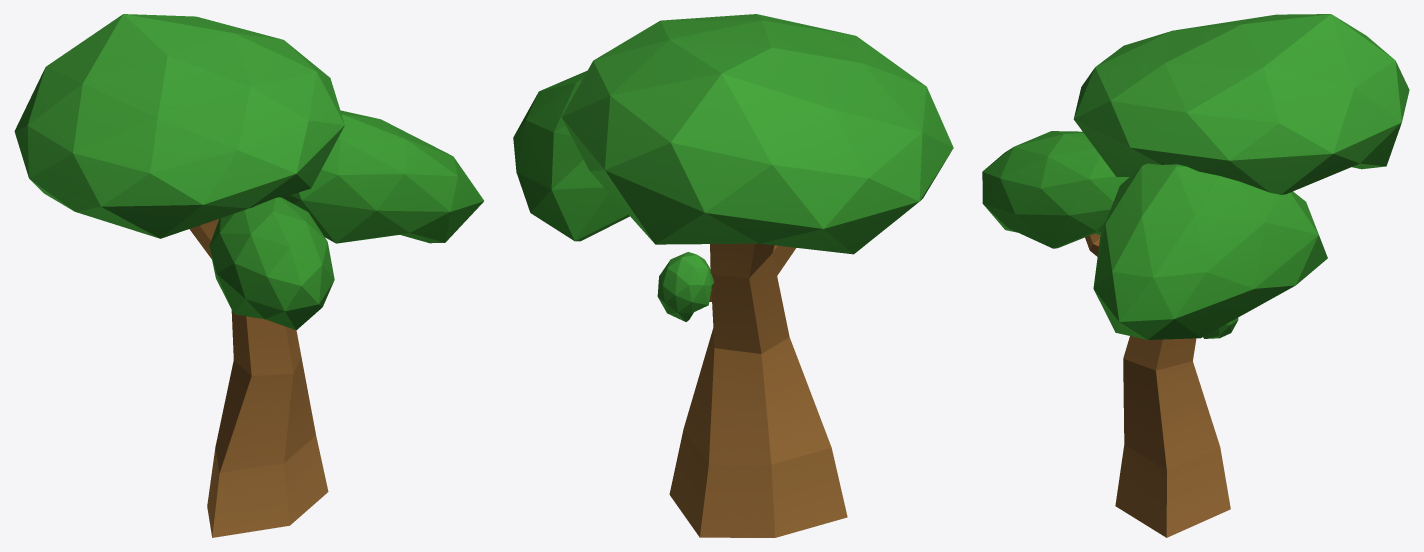
The model's file is TreeBig.fbx.
3 renders of one model, left to right at view 1: azimuth 30°, elevation 25°; view 2: azimuth 150°, elevation 25°; view 3: azimuth 270°, elevation 25°, orthographic. The views are drawn at different scales.
Parts seen in each view (by area): view 1: Big Tree; view 2: Big Tree; view 3: Big Tree.
Boxes of the visible parts, <box> form: Big Tree: <box>14,14,483,537</box>; Big Tree: <box>513,14,953,537</box>; Big Tree: <box>982,14,1409,537</box>.
Bounding box in the file's own units: 1013 × 1117 × 938.
